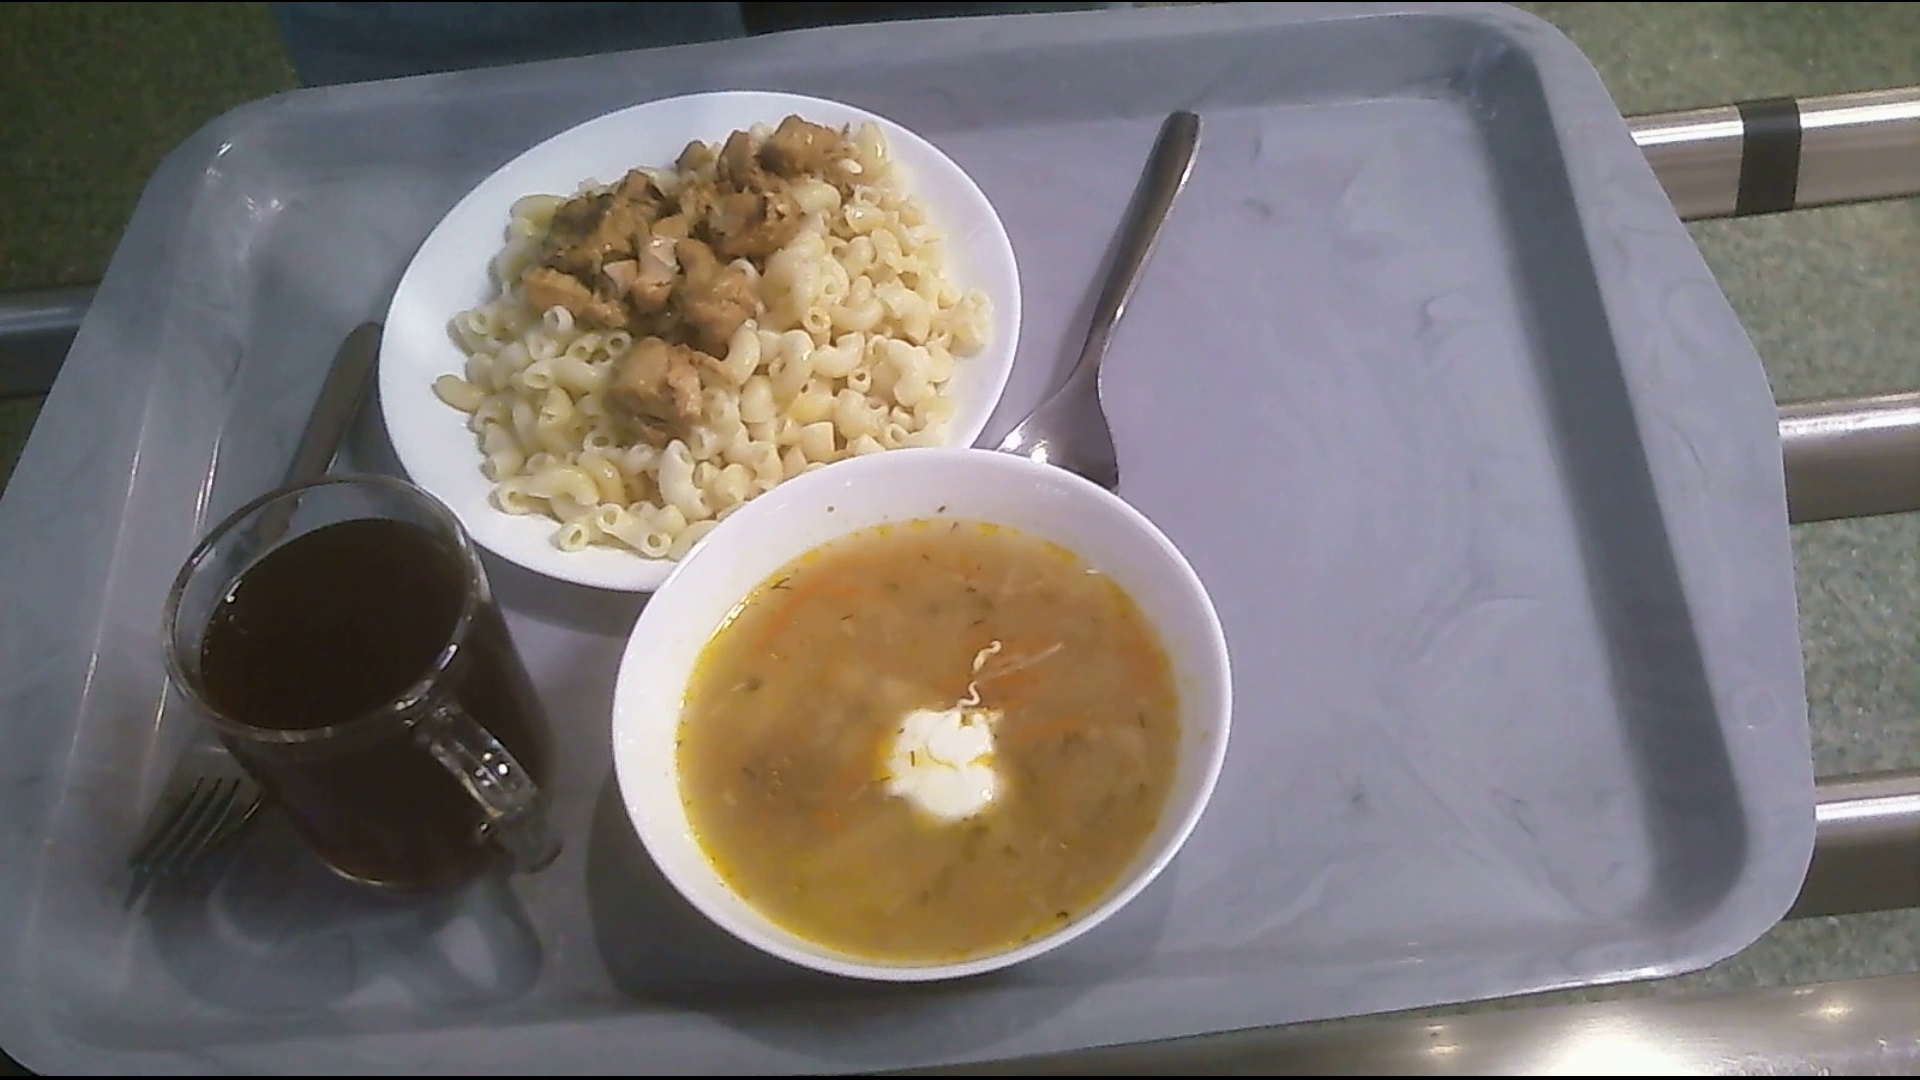bowl: (615, 451, 1233, 981)
cutlery: (148, 320, 385, 884), (994, 102, 1205, 495)
drink: (175, 473, 572, 899)
plate: (375, 94, 1022, 593)
